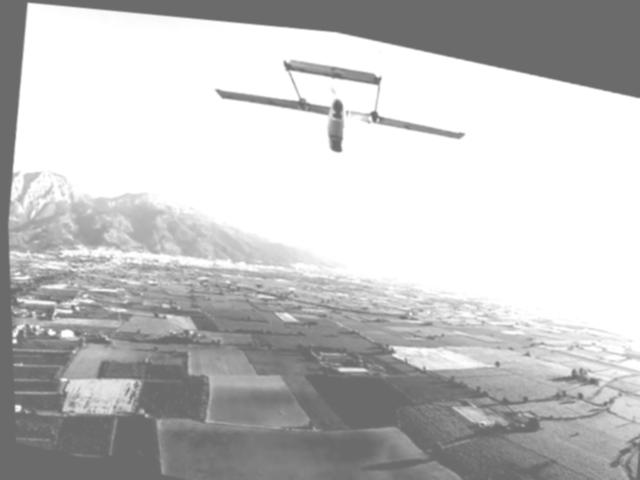hedef: (188, 14, 481, 217)
